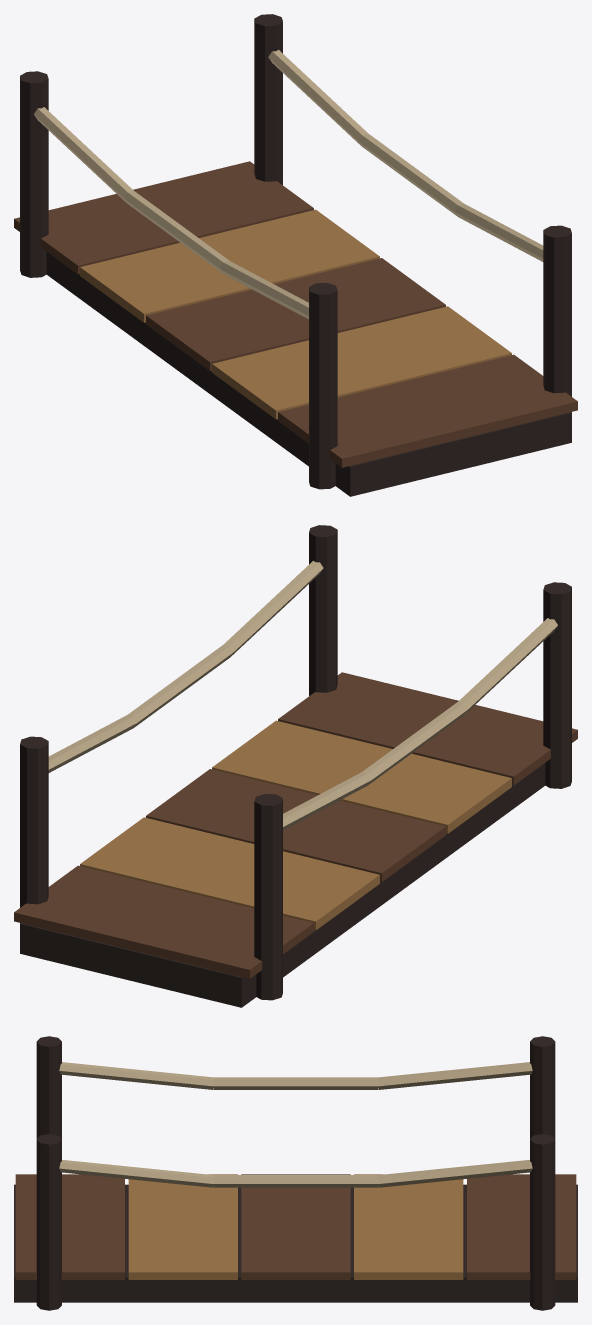
File: PirateCove_WreckPlankBridge_Simple.glb
3 views of the same model, one above another, from view 1: azimuth 30°, elevation 25°; view 2: azimuth 150°, elevation 25°; view 3: azimuth 270°, elevation 25° (orthographic). The views are drawn at different scales.
Visible parts, largest first — view 1: PirateCove_WreckPlankBridge_Simple; view 2: PirateCove_WreckPlankBridge_Simple; view 3: PirateCove_WreckPlankBridge_Simple.
Part boxes in pixels (x1,y1,x2,y2): PirateCove_WreckPlankBridge_Simple: (14, 14, 577, 496); PirateCove_WreckPlankBridge_Simple: (14, 525, 577, 1007); PirateCove_WreckPlankBridge_Simple: (14, 1036, 577, 1310).
Size of the model in its own units: 1.82 by 1.3 by 4.
